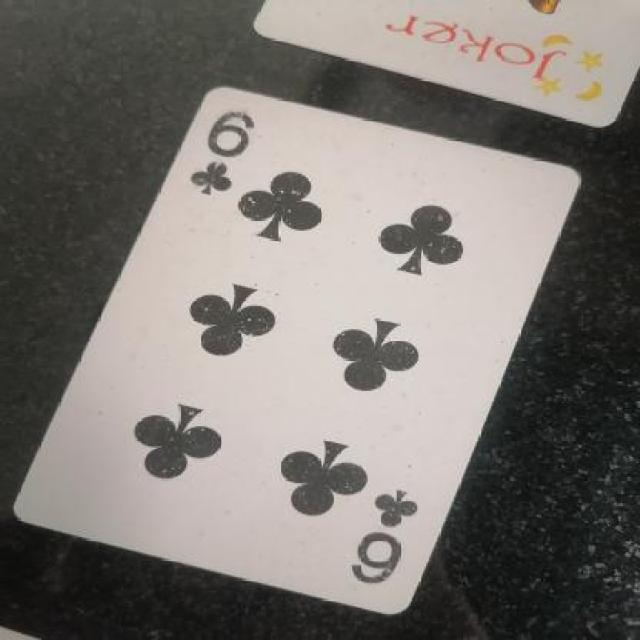6C: (342, 472, 453, 608), (182, 98, 266, 200)
